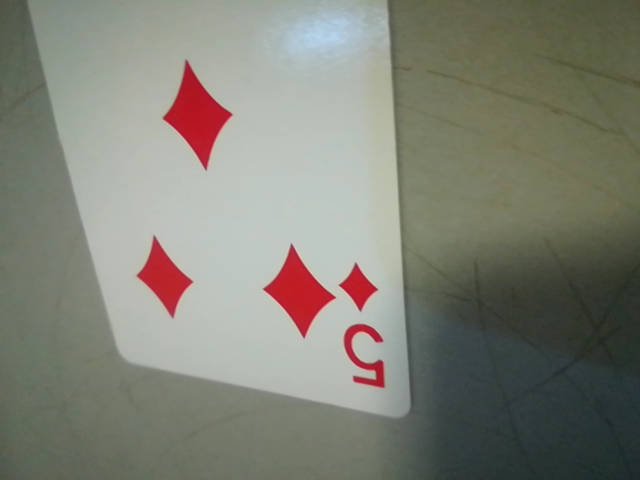fk 5: (331, 253, 403, 401)
